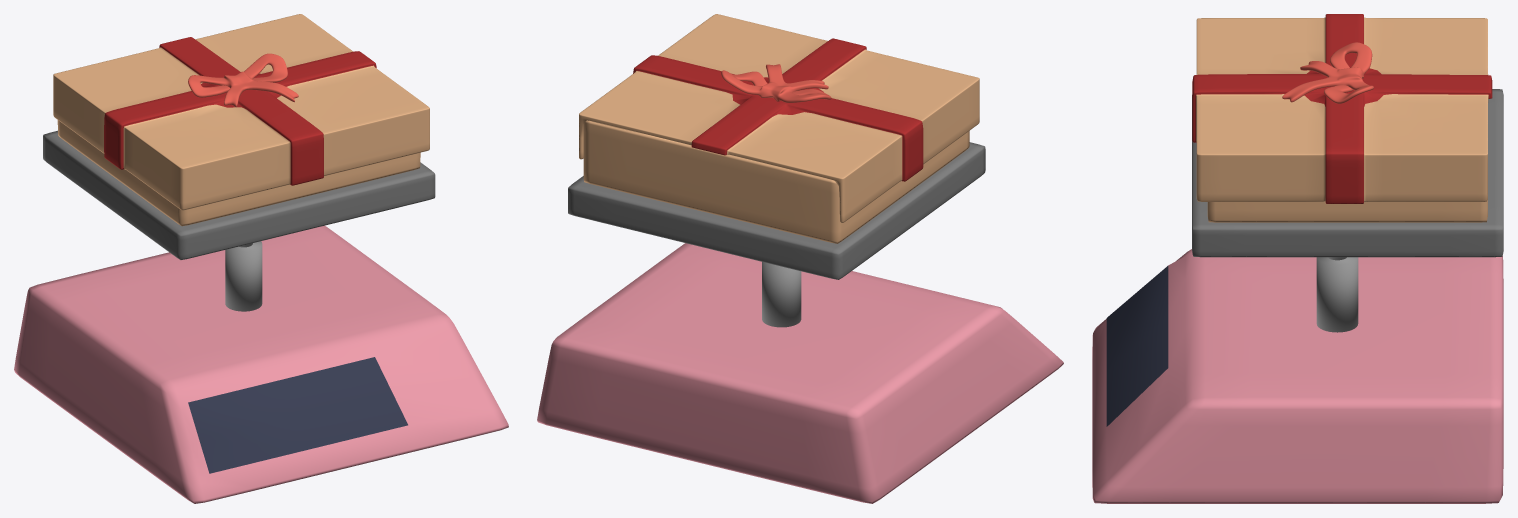
Rendered from Terazi.fbx.
3 views of the same model, side by side, from view 1: azimuth 30°, elevation 25°; view 2: azimuth 150°, elevation 25°; view 3: azimuth 270°, elevation 25° (orthographic). The views are drawn at different scales.
Parts seen in each view (by area): view 1: Cube, Plane, Cube.001, Cube.002, Cylinder.016; view 2: Cube, Plane, Cube.002, Cube.001, Cylinder.016; view 3: Cube, Plane, Cube.001, Cube.002, Cylinder.016.
Boxes of the visible parts, bbox=[...] form: Cube: bbox=[14, 225, 508, 503]; Plane: bbox=[53, 14, 429, 210]; Cube.001: bbox=[43, 130, 435, 259]; Cube.002: bbox=[57, 120, 420, 226]; Cylinder.016: bbox=[225, 241, 262, 311]; Cube: bbox=[537, 243, 1063, 503]; Plane: bbox=[579, 14, 979, 222]; Cube.002: bbox=[583, 120, 969, 243]; Cube.001: bbox=[568, 142, 985, 279]; Cylinder.016: bbox=[762, 262, 801, 327]; Cube: bbox=[1092, 249, 1503, 503]; Plane: bbox=[1192, 14, 1492, 203]; Cube.001: bbox=[1192, 89, 1503, 257]; Cube.002: bbox=[1207, 194, 1487, 222]; Cylinder.016: bbox=[1316, 257, 1358, 332].
Size of the model in its own units: 1.99 by 1.87 by 1.98.
